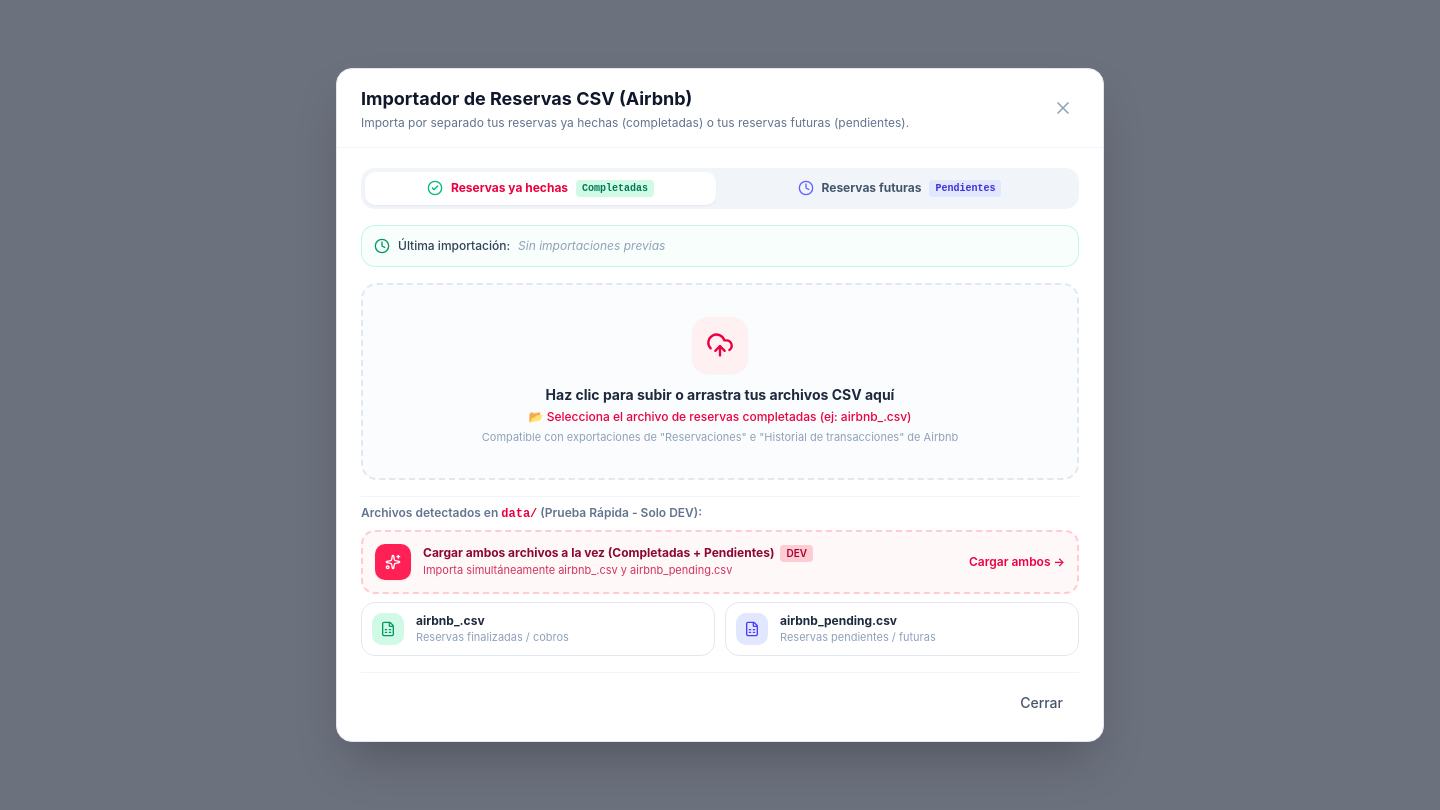
Test: CsvImportModal Component › accepts files with multiple different years and displays all reservations
This screenshot has width=1440, height=810.
Click the text "airbnb_.csv": (450, 620) [416,613,485,628]
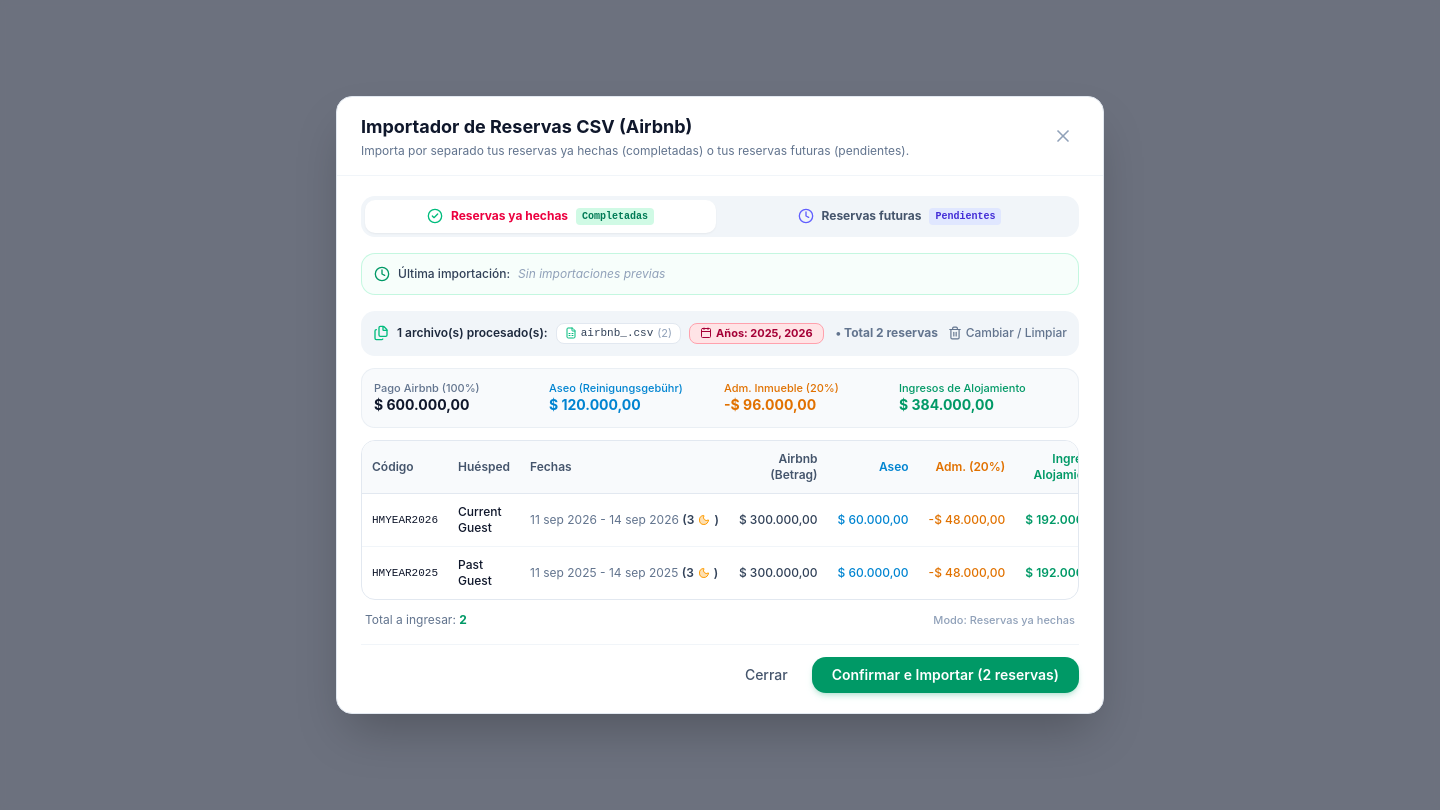
Result: the text "• Total 2 reservas" is shown at [836,325,938,341]
Result: the text "Past Guest" is shown at [448,547,520,599]
Result: the text "Current Guest" is shown at [448,494,520,547]
